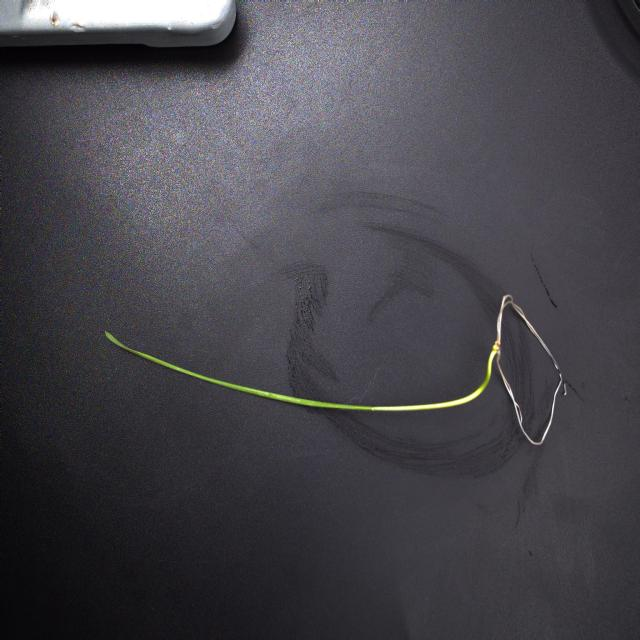leaf: (101, 330, 372, 415)
root: (493, 294, 566, 445)
stem: (370, 349, 496, 414)
